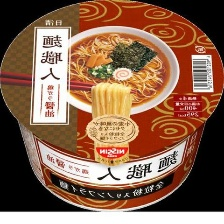paper_cup: (0, 0, 224, 210)
